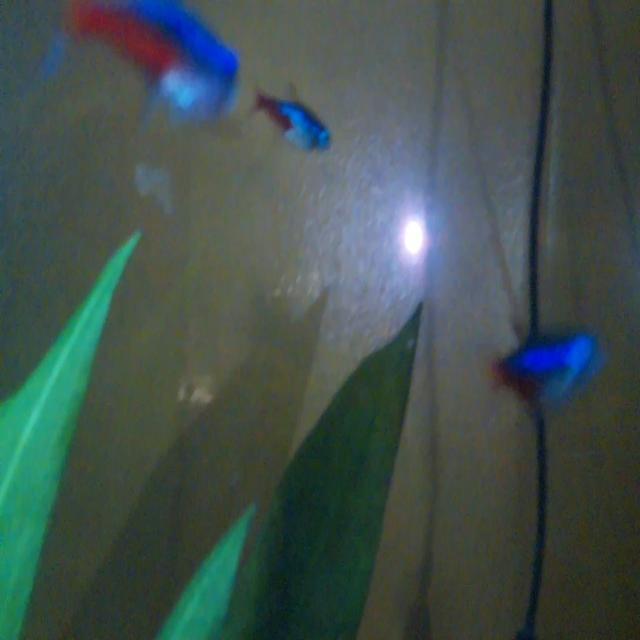fish: (484, 316, 611, 419), (255, 81, 338, 163)
